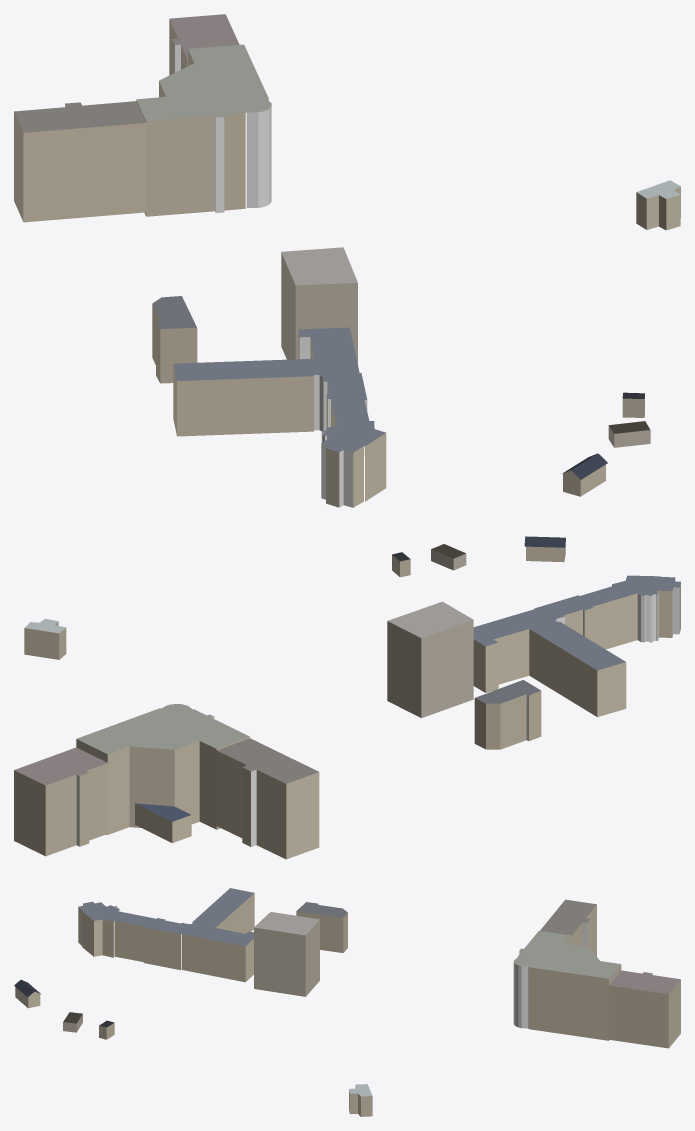
The picture shows the model from 3 angles, top to bottom: view 1: azimuth 30°, elevation 25°; view 2: azimuth 150°, elevation 25°; view 3: azimuth 270°, elevation 25°; orthographic projection. The views are drawn at different scales.
Visible parts, largest first — view 1: tuile; view 2: tuile; view 3: tuile.
Part boxes in pixels (box(x1,y1,x2,y2)): tuile: box(14, 14, 680, 507); tuile: box(14, 536, 680, 859); tuile: box(14, 888, 680, 1116).
Size of the model in its own units: 166 by 25.41 by 245.
